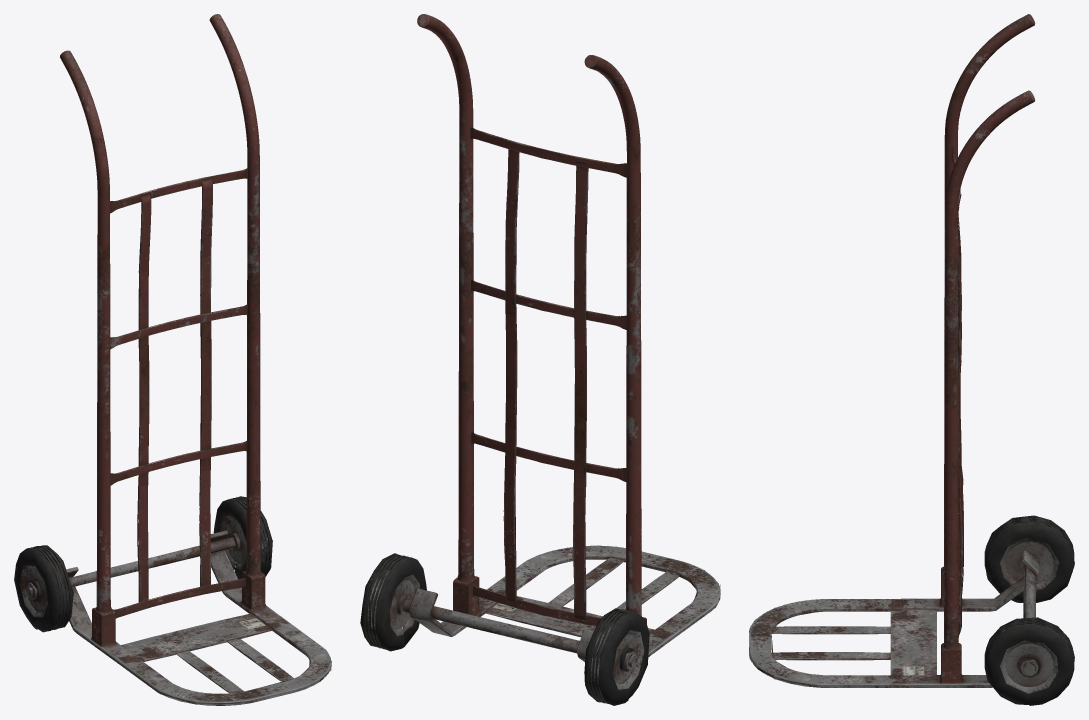
Rendered from ph_hand_truck.gltf.
3 renders of one model, left to right at view 1: azimuth 30°, elevation 25°; view 2: azimuth 150°, elevation 25°; view 3: azimuth 270°, elevation 25°, orthographic. The views are drawn at different scales.
Visible parts, largest first — view 1: Body; view 2: Body; view 3: Body.
Boxes of the visible parts, bbox=[...] form: Body: bbox=[14, 14, 331, 705]; Body: bbox=[360, 14, 720, 705]; Body: bbox=[749, 14, 1074, 705].
Size of the model in its own units: 0.5933 by 1.4 by 0.6935.
1 material, 1 textured.
